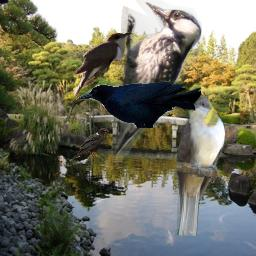Crow: (76, 81, 201, 128), (73, 128, 109, 159)
Cuckoo: (174, 95, 225, 236), (71, 31, 133, 105)
Woodpecker: (115, 0, 202, 163)
